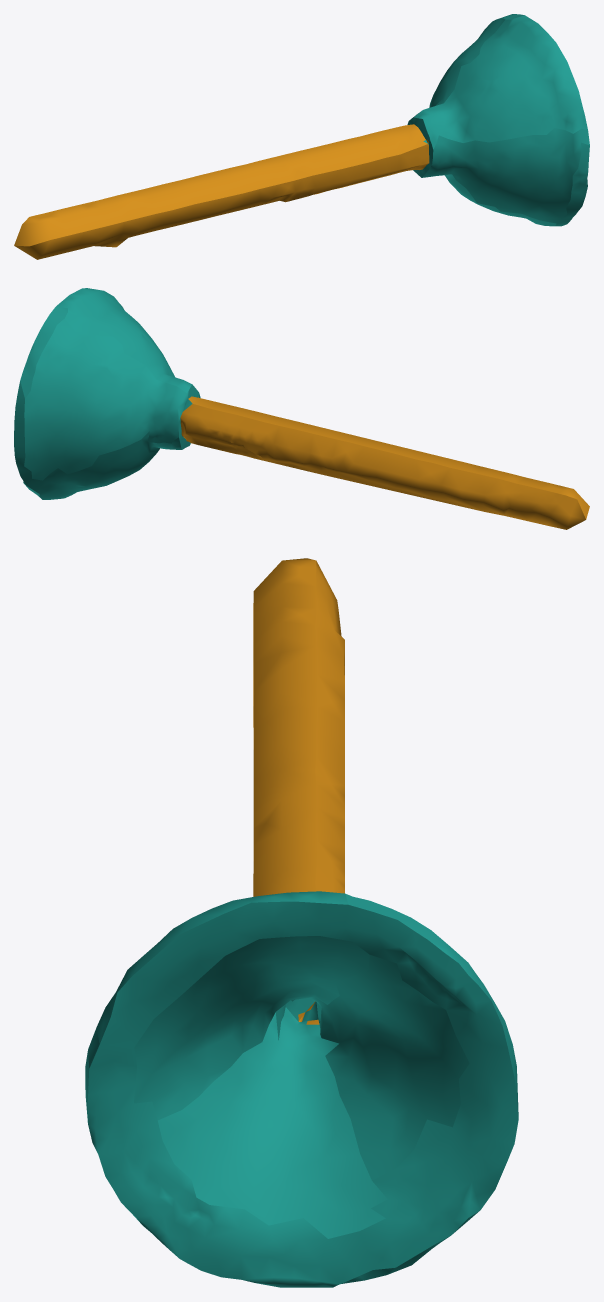
Rendered from segmentation_mesh.glb.
3 views of the same model, one above another, from view 1: azimuth 30°, elevation 25°; view 2: azimuth 150°, elevation 25°; view 3: azimuth 270°, elevation 25° (orthographic). The views are drawn at different scales.
Parts seen in each view (by area): view 1: segmentation_map; view 2: segmentation_map; view 3: segmentation_map.
Part boxes in pixels (x1,y1,x2,y2): segmentation_map: (14,14,589,259); segmentation_map: (14,288,589,529); segmentation_map: (85,558,518,1287).
Bounding box in the file's own units: 0.407 × 0.1449 × 0.1463.
